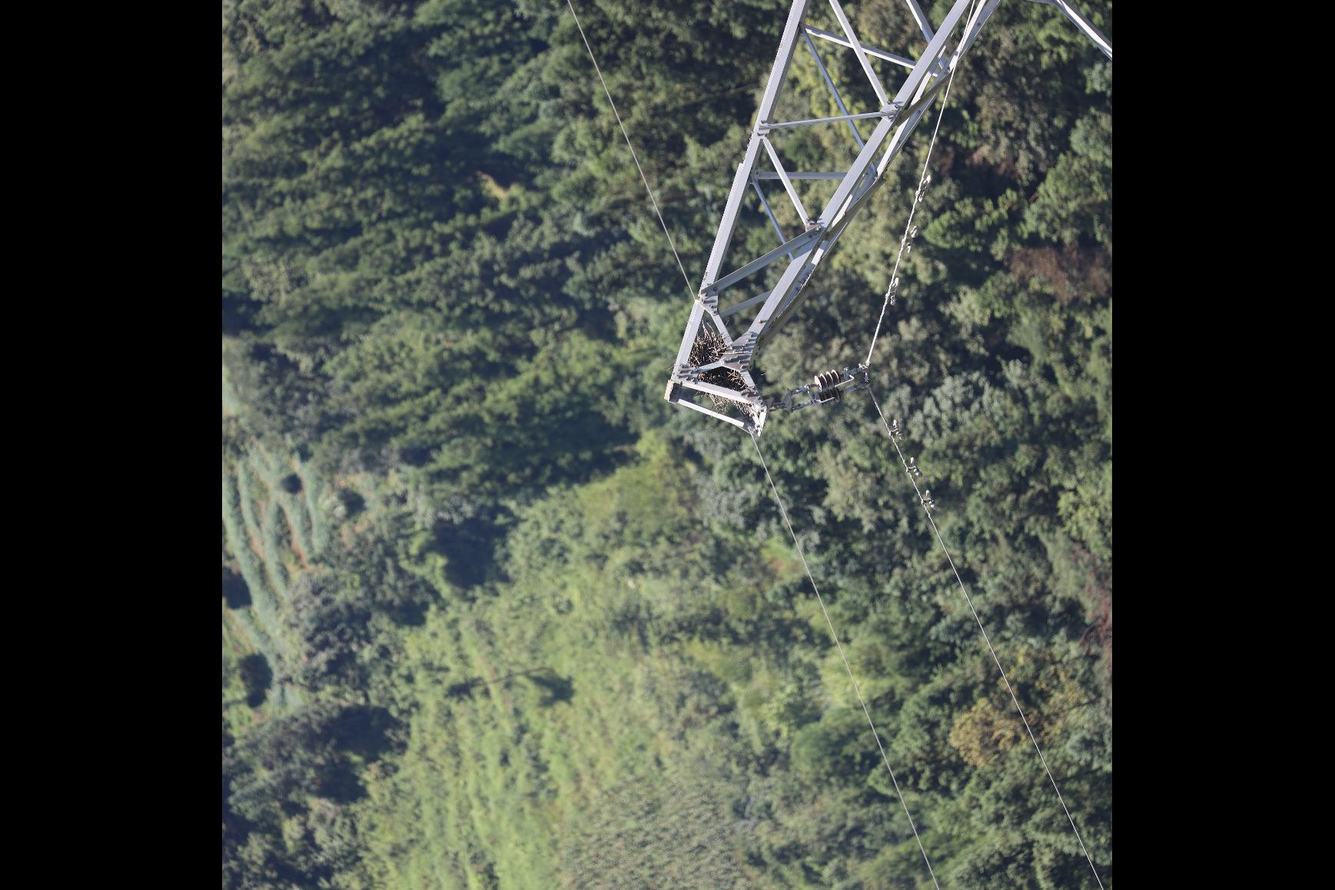damper: (899, 224, 921, 256), (913, 172, 935, 204), (883, 275, 902, 307), (887, 417, 907, 447), (903, 453, 925, 480), (918, 487, 938, 513)
nest: (686, 331, 745, 390)
